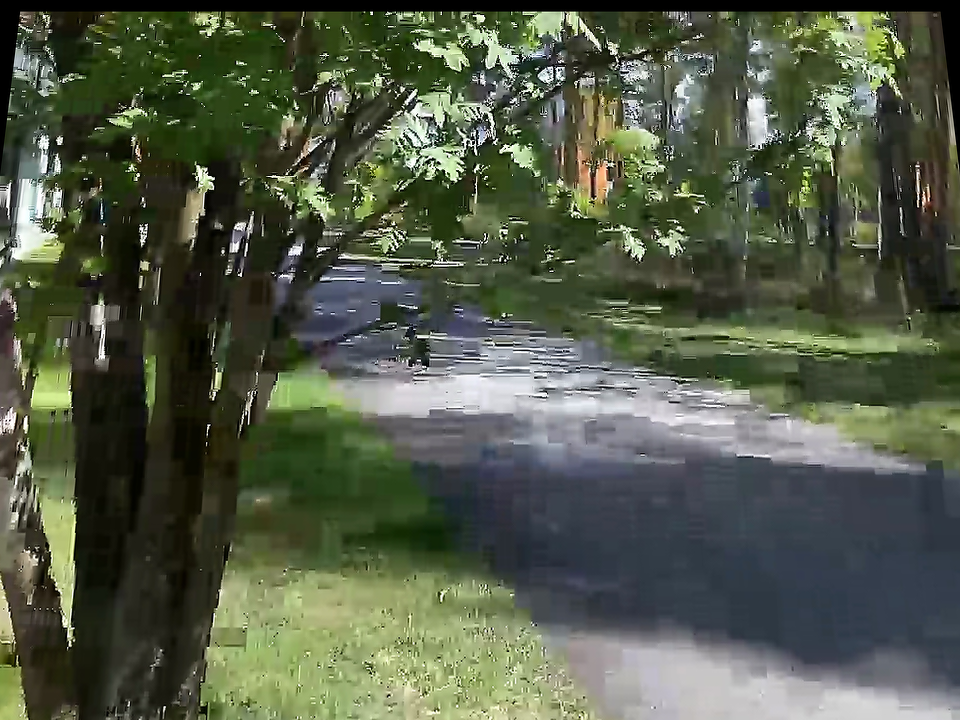branch: (320, 298, 456, 371)
trunk: (4, 89, 378, 689)
